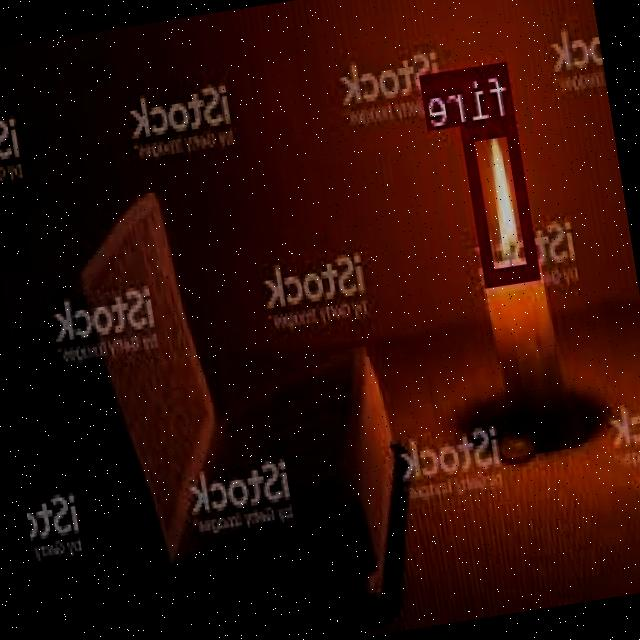fire: (464, 117, 541, 283)
